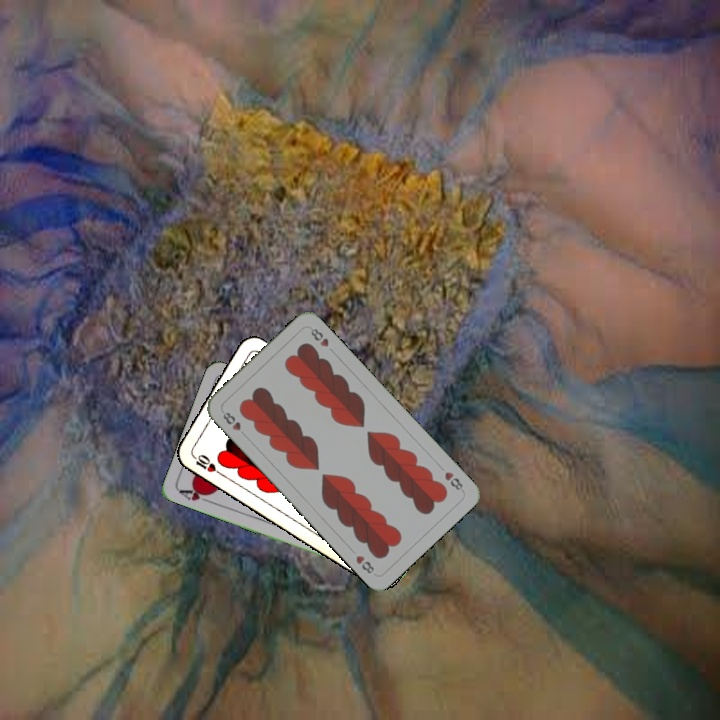H10: (188, 450, 224, 478)
H8: (219, 408, 249, 439), (441, 468, 466, 494)
HA: (175, 484, 215, 506)
